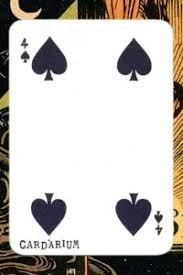four of spades: (8, 19, 172, 256)
